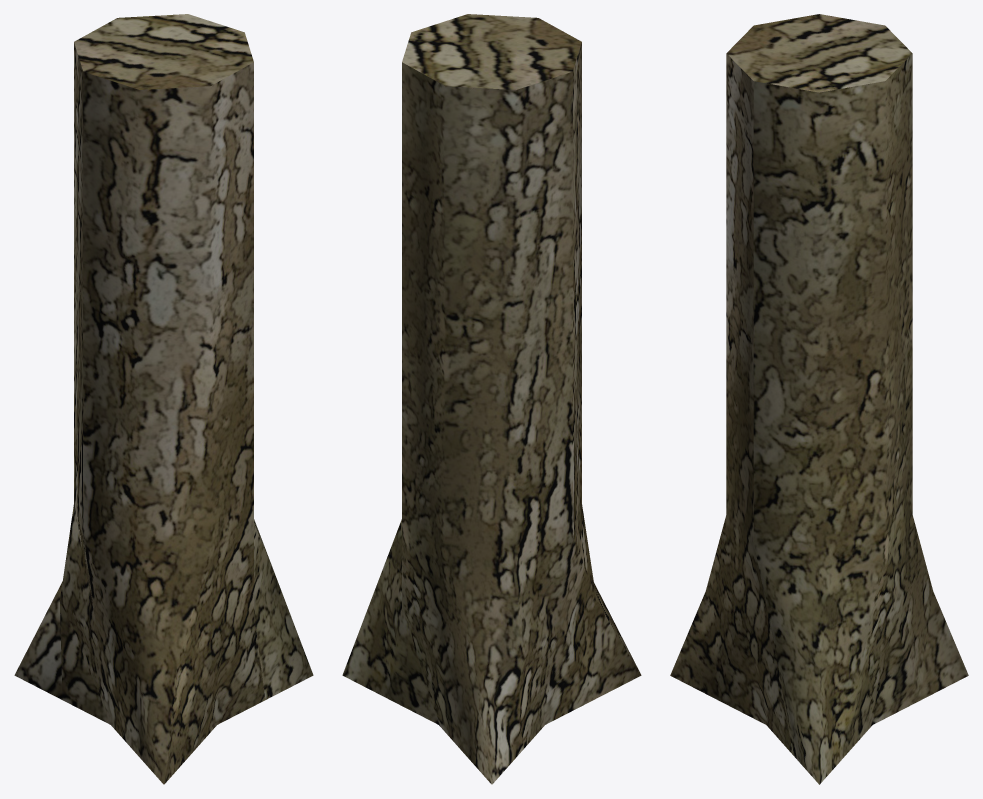
The model's file is TreeTrunk.FBX.
The picture shows the model from 3 angles, left to right: view 1: azimuth 30°, elevation 25°; view 2: azimuth 150°, elevation 25°; view 3: azimuth 270°, elevation 25°; orthographic projection.
Parts seen in each view (by area): view 1: Object001; view 2: Object001; view 3: Object001.
Part boxes in pixels (x1=…): Object001: x1=14, y1=14, x2=313, y2=784; Object001: x1=342, y1=14, x2=641, y2=784; Object001: x1=670, y1=14, x2=968, y2=784.
Size of the model in its own units: 35.24 by 96.49 by 39.65.
